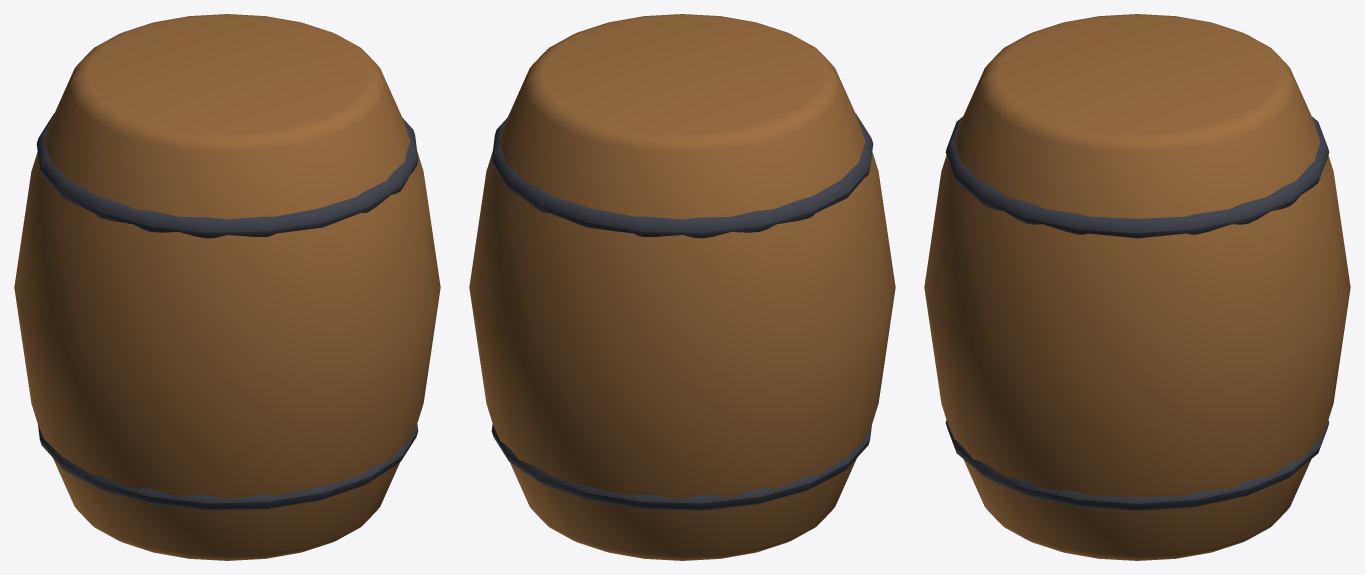
File: barrel_r.glb
The picture shows the model from 3 angles, left to right: view 1: azimuth 30°, elevation 25°; view 2: azimuth 150°, elevation 25°; view 3: azimuth 270°, elevation 25°; orthographic projection.
Parts seen in each view (by area): view 1: barrel_r; view 2: barrel_r; view 3: barrel_r.
Part boxes in pixels (box(x1,y1,x2,y2)): barrel_r: box(14, 14, 440, 560); barrel_r: box(469, 14, 895, 560); barrel_r: box(924, 14, 1350, 560).
Bounding box in the file's own units: 1 × 1.1 × 1.
